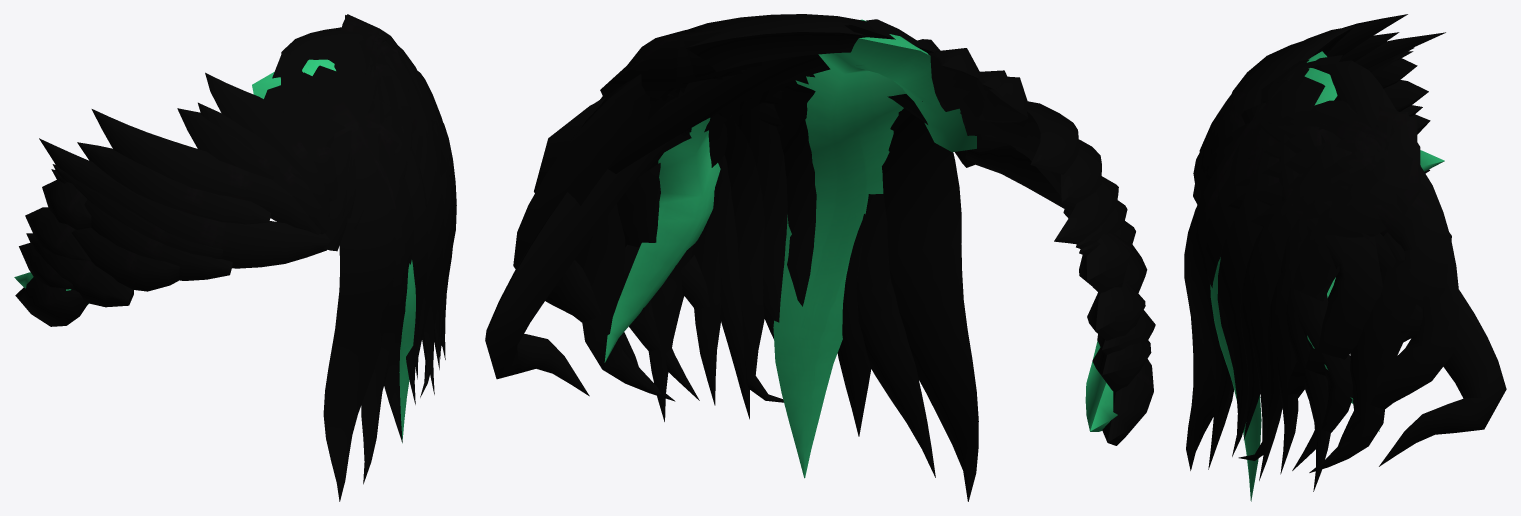
The model's file is vroid_hair_c5v2.glb.
3 views of the same model, side by side, from view 1: azimuth 30°, elevation 25°; view 2: azimuth 150°, elevation 25°; view 3: azimuth 270°, elevation 25° (orthographic). The views are drawn at different scales.
Visible parts, largest first — view 1: hair; view 2: hair; view 3: hair.
Part boxes in pixels (x1,y1,x2,y2): hair: [14, 14, 456, 501]; hair: [485, 14, 1155, 501]; hair: [1184, 14, 1506, 501].
Bounding box in the file's own units: 0.195 × 0.1695 × 0.117.
2 materials, 2 textured.
